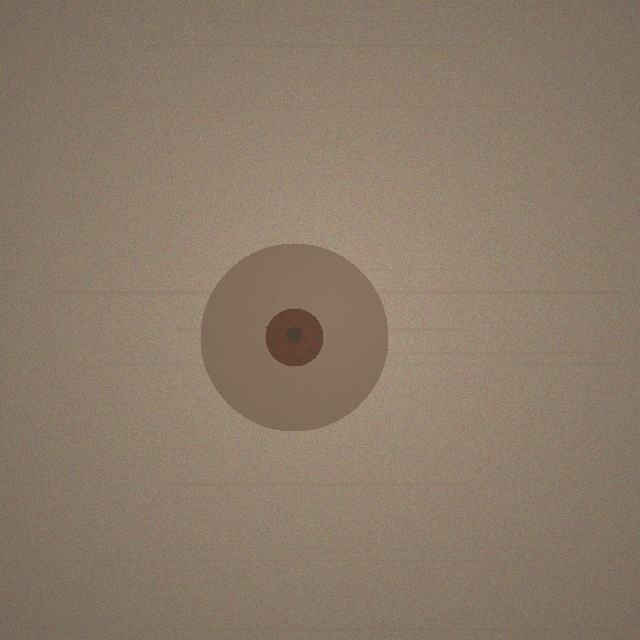cold_weld: (200, 243, 388, 431)
